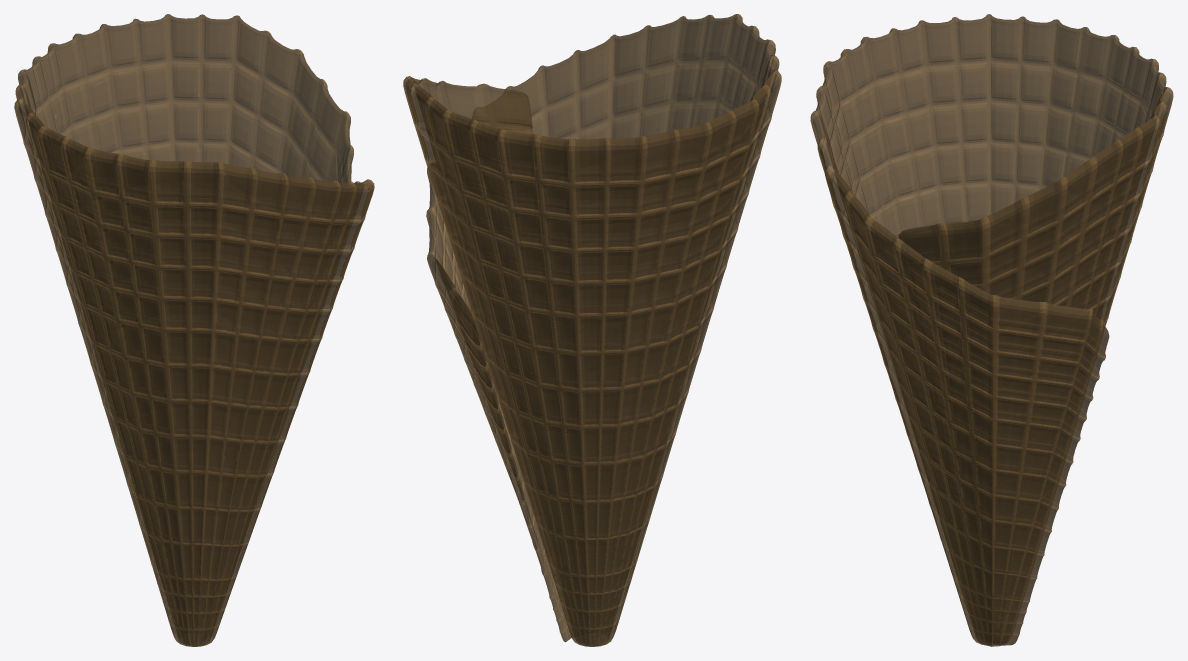
File: cono.fbx
3 renders of one model, left to right at view 1: azimuth 30°, elevation 25°; view 2: azimuth 150°, elevation 25°; view 3: azimuth 270°, elevation 25°, orthographic. The views are drawn at different scales.
Parts seen in each view (by area): view 1: Cylinder; view 2: Cylinder; view 3: Cylinder.
Part boxes in pixels (left/top/right/bottom): Cylinder: left=14, top=14, right=374, bottom=646; Cylinder: left=403, top=14, right=781, bottom=646; Cylinder: left=810, top=14, right=1173, bottom=646.
Bounding box in the file's own units: 139 × 233 × 139.
